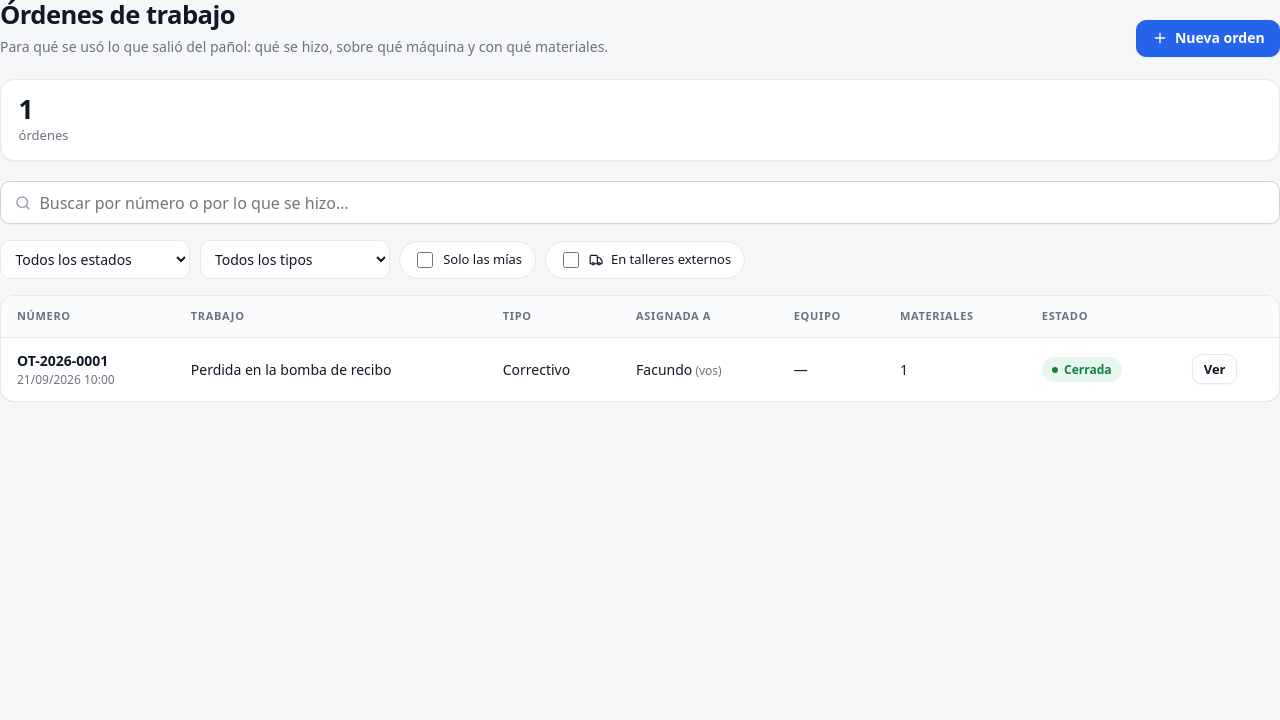
Test: OrdenesTrabajoPage › una orden cerrada muestra que se hizo y no deja cargar materiales
Click the button "Ver" at (1215, 369), box [1192, 354, 1237, 384]
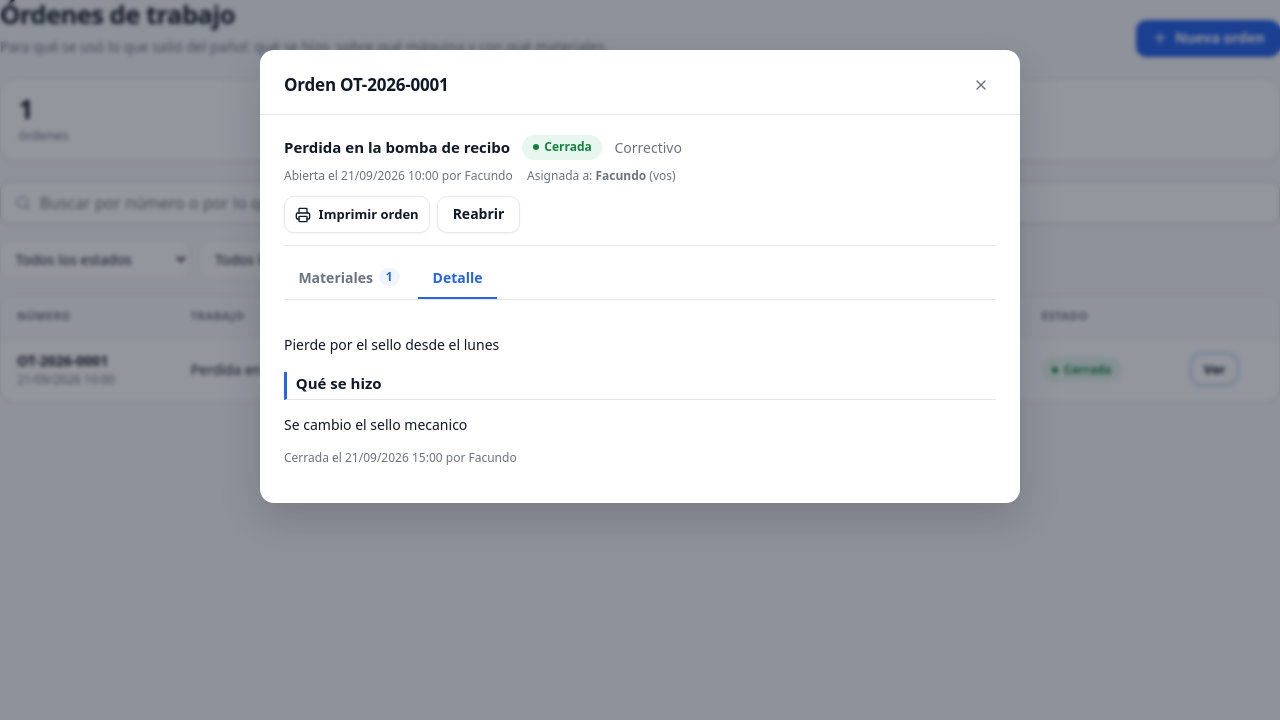
Expected: the text "Se cambio el sello mecanico" is shown, [284, 416, 467, 434]
Expected: the button "Reabrir" is shown, [437, 196, 520, 233]
